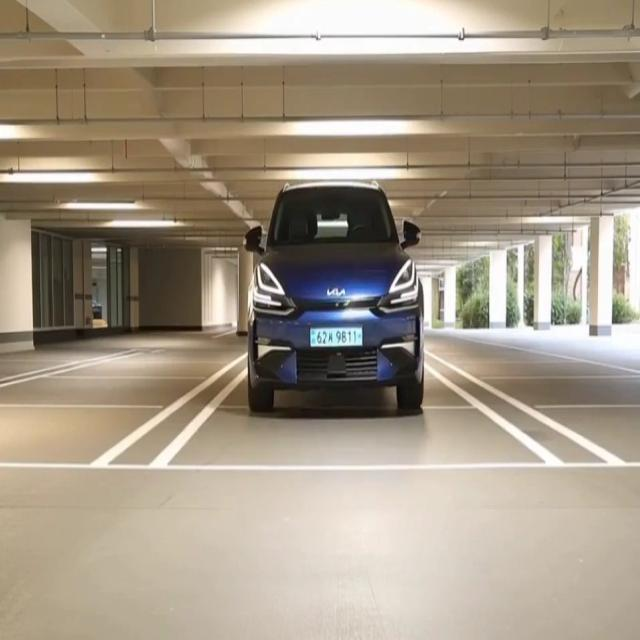car: (310, 329, 364, 347)
carev: (356, 329, 364, 347), (309, 329, 315, 347)
